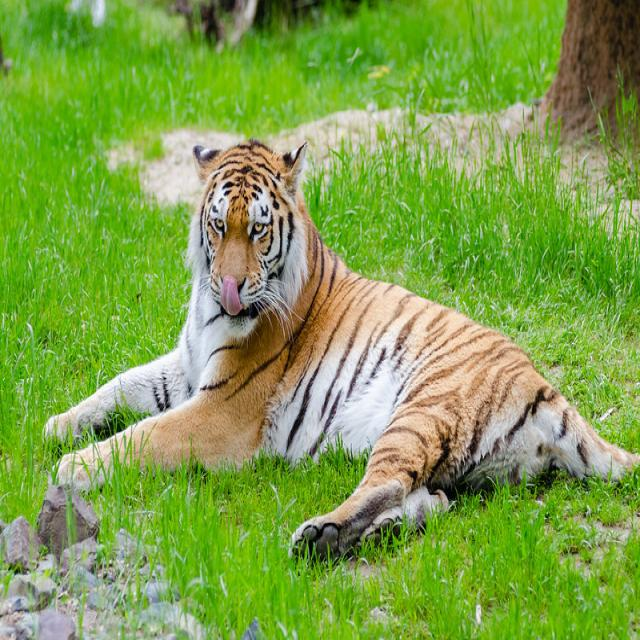Tiger: (54, 132, 624, 564)
